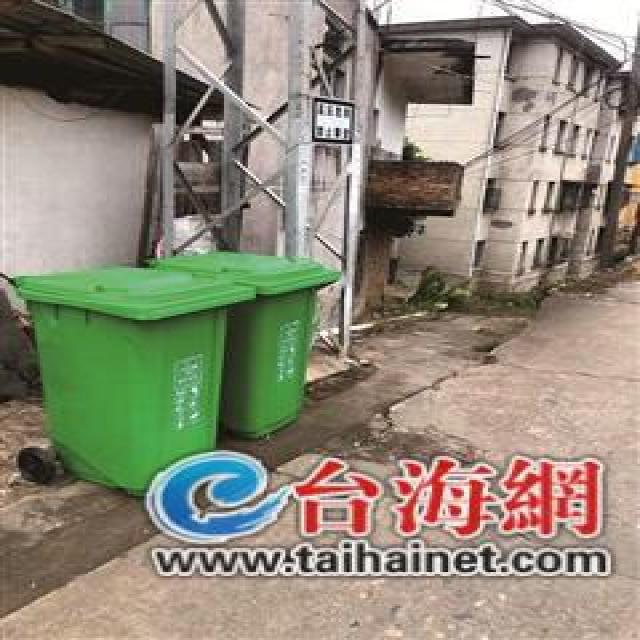garbage_bin: (5, 260, 254, 492), (149, 250, 339, 436)
